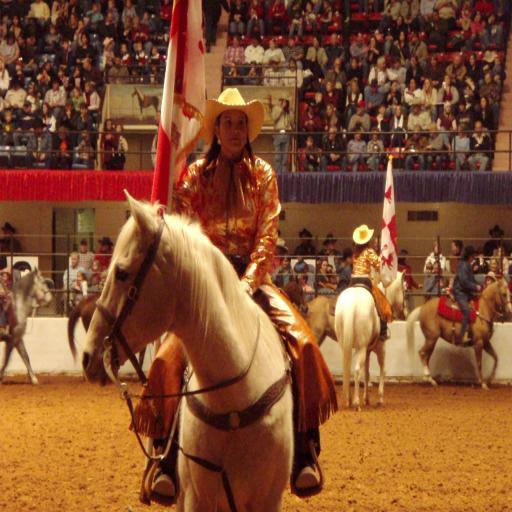horse: (80, 186, 296, 512), (404, 275, 512, 389), (333, 267, 410, 414), (65, 294, 146, 380), (0, 264, 53, 386), (304, 294, 338, 346), (279, 271, 308, 314)
